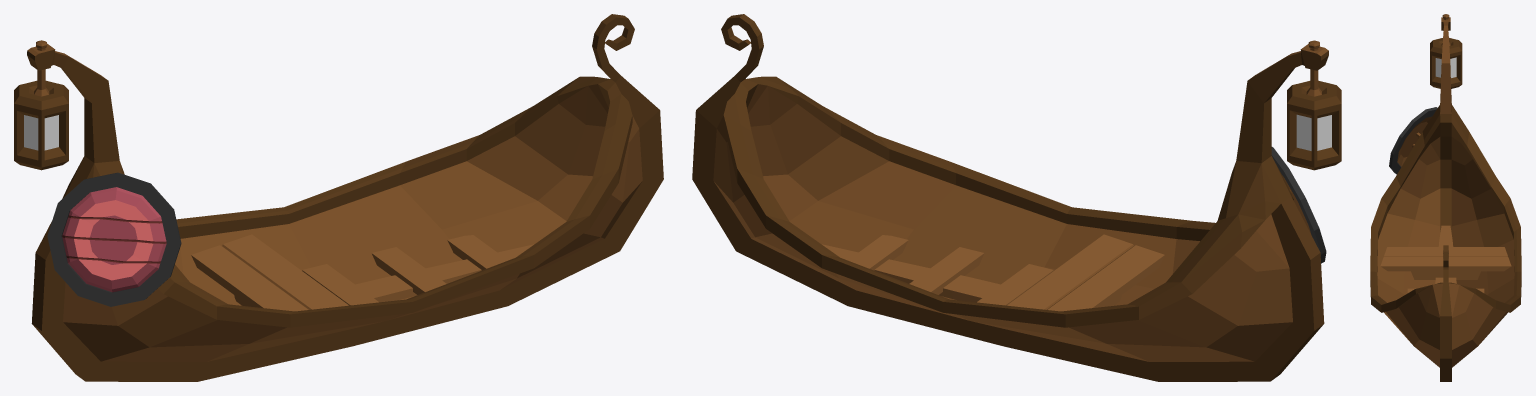
Rendered from D_Rowboat_Red.fbx.
3 views of the same model, side by side, from view 1: azimuth 30°, elevation 25°; view 2: azimuth 150°, elevation 25°; view 3: azimuth 270°, elevation 25° (orthographic). The views are drawn at different scales.
Parts seen in each view (by area): view 1: D_Rowboat_Red; view 2: D_Rowboat_Red; view 3: D_Rowboat_Red.
Part boxes in pixels (x1=…): D_Rowboat_Red: x1=14, y1=14, x2=663, y2=381; D_Rowboat_Red: x1=692, y1=14, x2=1341, y2=381; D_Rowboat_Red: x1=1370, y1=14, x2=1521, y2=381.
Size of the model in its own units: 439 by 244 by 152.
